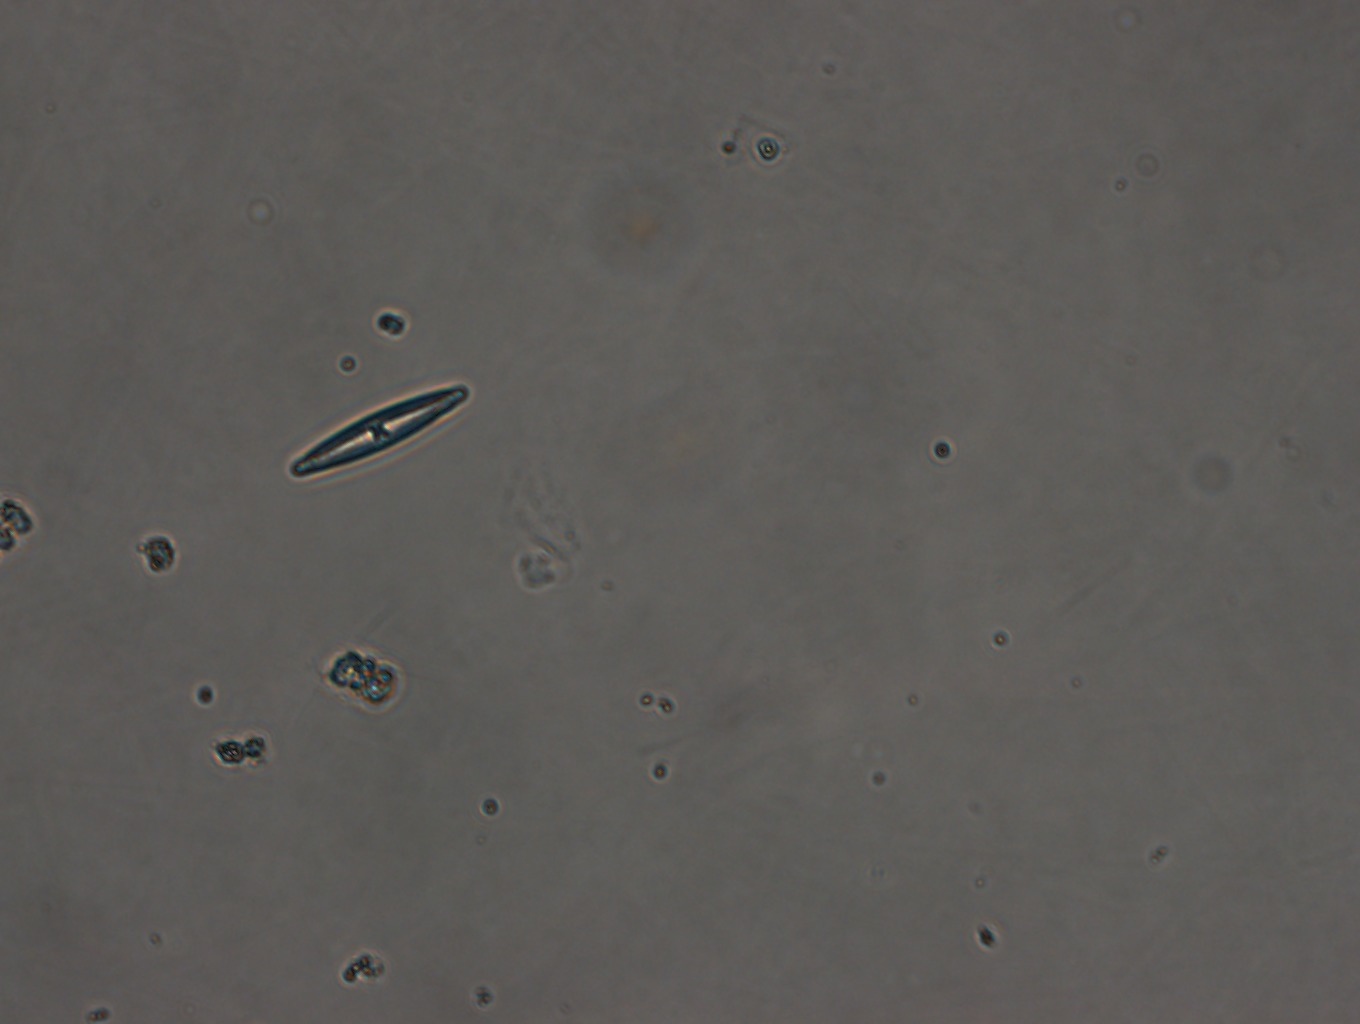navicula: (266, 380, 474, 474)
